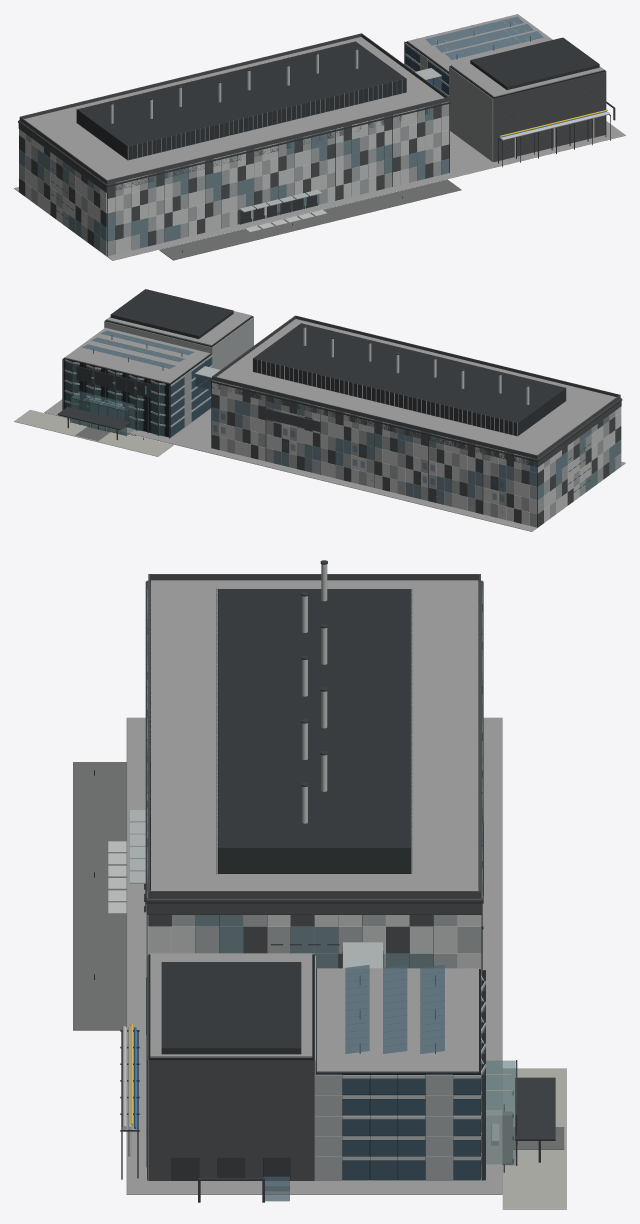
Rendered from Factory.fbx.
3 renders of one model, top to bottom at view 1: azimuth 30°, elevation 25°; view 2: azimuth 150°, elevation 25°; view 3: azimuth 270°, elevation 25°, orthographic. The views are drawn at different scales.
Parts seen in each view (by area): view 1: Roof_FAB_Mechanical_Backup, Structure_FAB_Floor_Slab_L05, CUB_South_Envelope, Mass_Exact_Three_To_One_Footprint_Plinth, Site_South_Service_Yard, Structure_Office_Floor_Slab_L06, Mass_CUB_Raised_Service_Cap, CUB_West_Envelope, Mass_FAB_Upper_Technical_Band, Roof_FAB_Parapet_South, Roof_FAB_Parapet_North, Structure_CUB_Floor_Slab_L05 (+4 smaller); view 2: Roof_FAB_Mechanical_Backup, Structure_FAB_Floor_Slab_L05, Mass_North_East_Serrated_Office, Structure_Office_Floor_Slab_L06, Mass_Exact_Three_To_One_Footprint_Plinth, Mass_CUB_Raised_Service_Cap, Mass_FAB_Upper_Technical_Band, Site_North_Visitor_Forecourt, Roof_FAB_Parapet_North, Roof_FAB_Parapet_South, CUB_West_Envelope, Structure_CUB_Floor_Slab_L05 (+9 smaller); view 3: Roof_FAB_Mechanical_Backup, Structure_FAB_Floor_Slab_L05, Mass_Exact_Three_To_One_Footprint_Plinth, CUB_East_Envelope, Structure_Office_Floor_Slab_L06, Site_South_Service_Yard, Mass_CUB_Raised_Service_Cap, Mass_North_East_Serrated_Office, Mass_FAB_Upper_Technical_Band, Site_North_Visitor_Forecourt, Structure_CUB_Floor_Slab_L05, Mass_North_Visitor_Lobby (+6 smaller).
Boxes of the visible parts, x1=… form: Roof_FAB_Mechanical_Backup: x1=77, y1=41, x2=406, y2=160; Structure_FAB_Floor_Slab_L05: x1=24, y1=37, x2=444, y2=180; CUB_South_Envelope: x1=493, y1=71, x2=605, y2=161; Mass_Exact_Three_To_One_Footprint_Plinth: x1=14, y1=121, x2=625, y2=260; Site_South_Service_Yard: x1=159, y1=179, x2=461, y2=260; Structure_Office_Floor_Slab_L06: x1=407, y1=14, x2=552, y2=71; Mass_CUB_Raised_Service_Cap: x1=470, y1=37, x2=599, y2=89; CUB_West_Envelope: x1=449, y1=67, x2=493, y2=161; Mass_FAB_Upper_Technical_Band: x1=18, y1=101, x2=450, y2=192; Roof_FAB_Parapet_South: x1=106, y1=97, x2=449, y2=184; Roof_FAB_Parapet_North: x1=19, y1=33, x2=361, y2=120; Structure_CUB_Floor_Slab_L05: x1=451, y1=60, x2=604, y2=97; Roof_FAB_Mechanical_Backup: x1=253, y1=323, x2=565, y2=435; Structure_FAB_Floor_Slab_L05: x1=217, y1=319, x2=616, y2=454; Mass_North_East_Serrated_Office: x1=63, y1=354, x2=211, y2=437; Structure_Office_Floor_Slab_L06: x1=64, y1=327, x2=210, y2=383; Mass_Exact_Three_To_One_Footprint_Plinth: x1=44, y1=399, x2=625, y2=531; Mass_CUB_Raised_Service_Cap: x1=110, y1=289, x2=233, y2=338; Mass_FAB_Upper_Technical_Band: x1=211, y1=380, x2=621, y2=467; Site_North_Visitor_Forecourt: x1=14, y1=409, x2=173, y2=456; Roof_FAB_Parapet_North: x1=212, y1=376, x2=537, y2=458; Roof_FAB_Parapet_South: x1=295, y1=315, x2=620, y2=398; CUB_West_Envelope: x1=212, y1=317, x2=253, y2=369; Structure_CUB_Floor_Slab_L05: x1=106, y1=311, x2=251, y2=345; Roof_FAB_Mechanical_Backup: x1=218, y1=589, x2=411, y2=873; Structure_FAB_Floor_Slab_L05: x1=151, y1=580, x2=478, y2=890; Mass_Exact_Three_To_One_Footprint_Plinth: x1=126, y1=717, x2=502, y2=1194; CUB_East_Envelope: x1=148, y1=1060, x2=314, y2=1180; Structure_Office_Floor_Slab_L06: x1=316, y1=968, x2=478, y2=1072; Site_South_Service_Yard: x1=73, y1=762, x2=126, y2=1030; Mass_CUB_Raised_Service_Cap: x1=161, y1=962, x2=301, y2=1054; Mass_North_East_Serrated_Office: x1=315, y1=969, x2=480, y2=1179; Mass_FAB_Upper_Technical_Band: x1=147, y1=580, x2=482, y2=914; Site_North_Visitor_Forecourt: x1=502, y1=1068, x2=566, y2=1209; Structure_CUB_Floor_Slab_L05: x1=150, y1=953, x2=312, y2=1057; Mass_North_Visitor_Lobby: x1=486, y1=1060, x2=515, y2=1165.
Size of the model in its own units: 21650 by 4228 by 9200.
